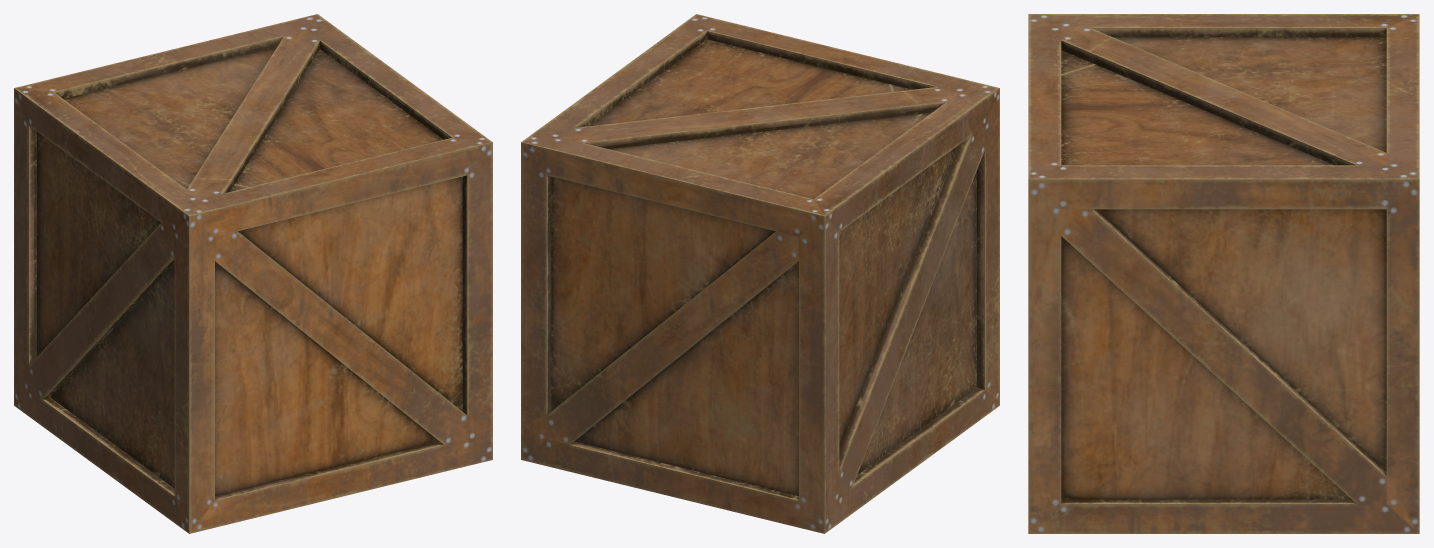
Rendered from wood_crate.fbx.
The picture shows the model from 3 angles, left to right: view 1: azimuth 30°, elevation 25°; view 2: azimuth 150°, elevation 25°; view 3: azimuth 270°, elevation 25°; orthographic projection. The views are drawn at different scales.
Visible parts, largest first — view 1: box_low; view 2: box_low; view 3: box_low.
Part boxes in pixels (left/top/right/bottom): box_low: left=14, top=14, right=492, bottom=533; box_low: left=521, top=14, right=999, bottom=533; box_low: left=1028, top=14, right=1419, bottom=533.
Size of the model in its own units: 100 by 100 by 100.
